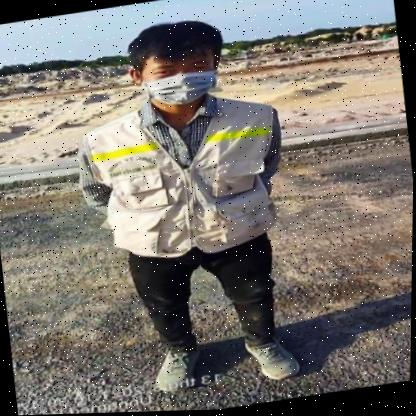person: (68, 0, 311, 404)
